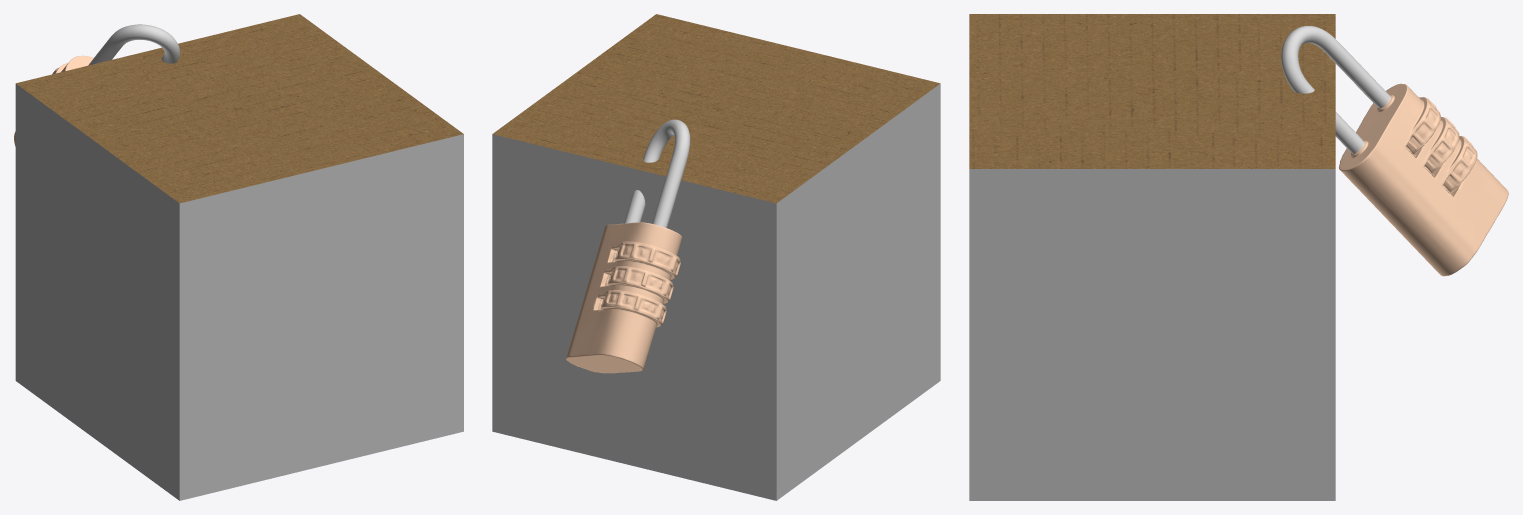
3 renders of one model, left to right at view 1: azimuth 30°, elevation 25°; view 2: azimuth 150°, elevation 25°; view 3: azimuth 270°, elevation 25°, orthographic. The views are drawn at different scales.
Visible parts, largest first — view 1: Cube, Lock; view 2: Cube, Lock; view 3: Cube, Lock.
Part boxes in pixels (box(x1,y1,x2,y2)): Cube: box(15, 14, 463, 500); Lock: box(14, 24, 179, 146); Cube: box(492, 14, 940, 500); Lock: box(566, 119, 690, 373); Cube: box(969, 14, 1335, 500); Lock: box(1281, 26, 1508, 276).
Bounding box in the file's own units: 2 × 2.28 × 2.94.
